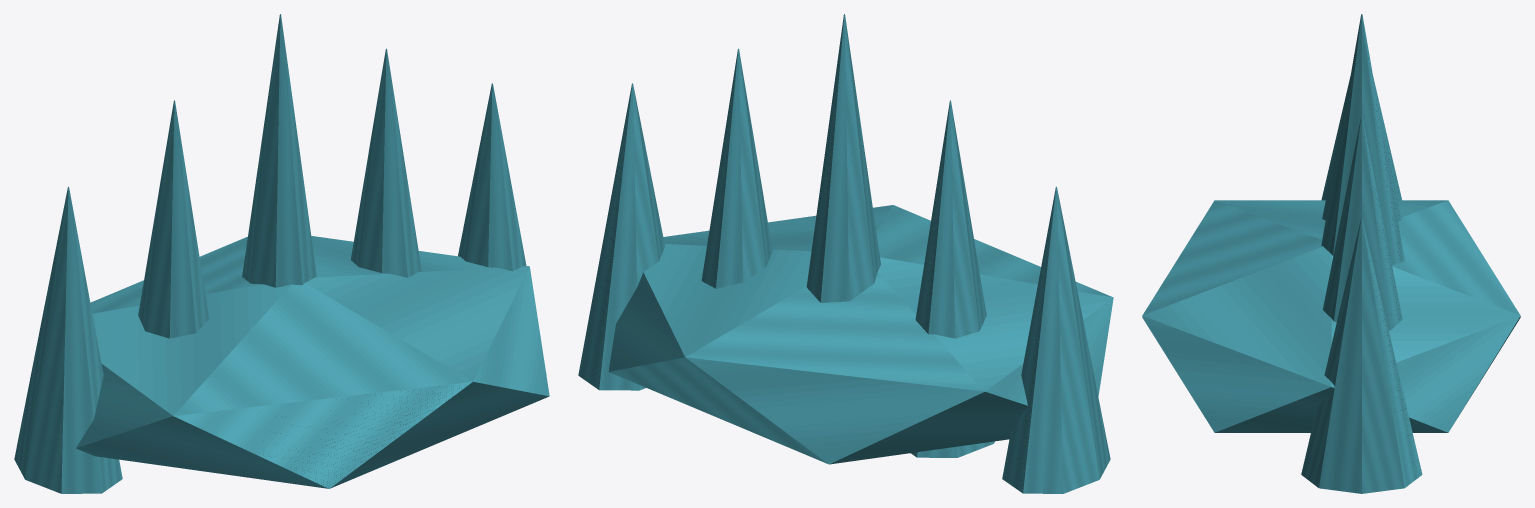
File: thunder_fan.glb
3 renders of one model, left to right at view 1: azimuth 30°, elevation 25°; view 2: azimuth 150°, elevation 25°; view 3: azimuth 270°, elevation 25°, orthographic. The views are drawn at different scales.
Parts seen in each view (by area): view 1: gear_thunder_fan; view 2: gear_thunder_fan; view 3: gear_thunder_fan.
Part boxes in pixels (x1,y1,x2,y2): gear_thunder_fan: (14, 14, 549, 493); gear_thunder_fan: (578, 14, 1113, 493); gear_thunder_fan: (1142, 14, 1520, 493).
Bounding box in the file's own units: 0.53 × 0.41 × 0.3743.
1 material, 1 textured.
